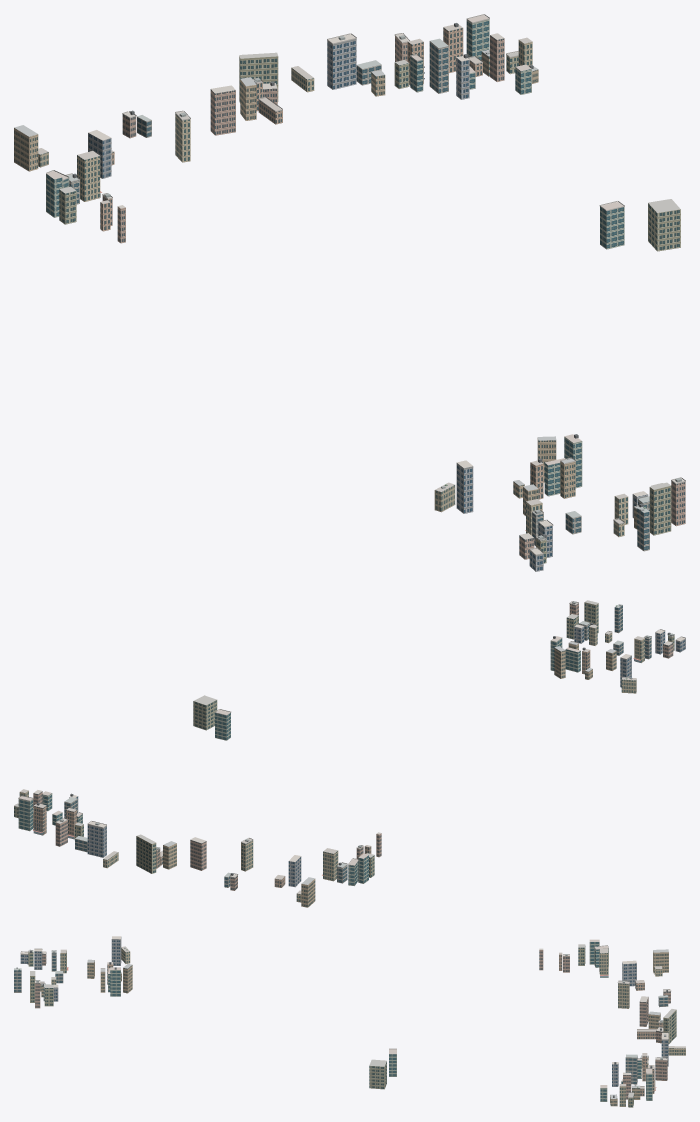
3 views of the same model, one above another, from view 1: azimuth 30°, elevation 25°; view 2: azimuth 150°, elevation 25°; view 3: azimuth 270°, elevation 25° (orthographic). The views are drawn at different scales.
Visible parts, largest first — view 1: Station 1 surrounding real OSM building footprints; view 2: Station 1 surrounding real OSM building footprints; view 3: Station 1 surrounding real OSM building footprints.
Part boxes in pixels (x1=…): Station 1 surrounding real OSM building footprints: x1=14, y1=14, x2=685, y2=571; Station 1 surrounding real OSM building footprints: x1=14, y1=600, x2=685, y2=907; Station 1 surrounding real OSM building footprints: x1=14, y1=936, x2=685, y2=1107.
Size of the model in its own units: 304 by 27.25 by 578.
Materials: 25 (8 with a texture image).
